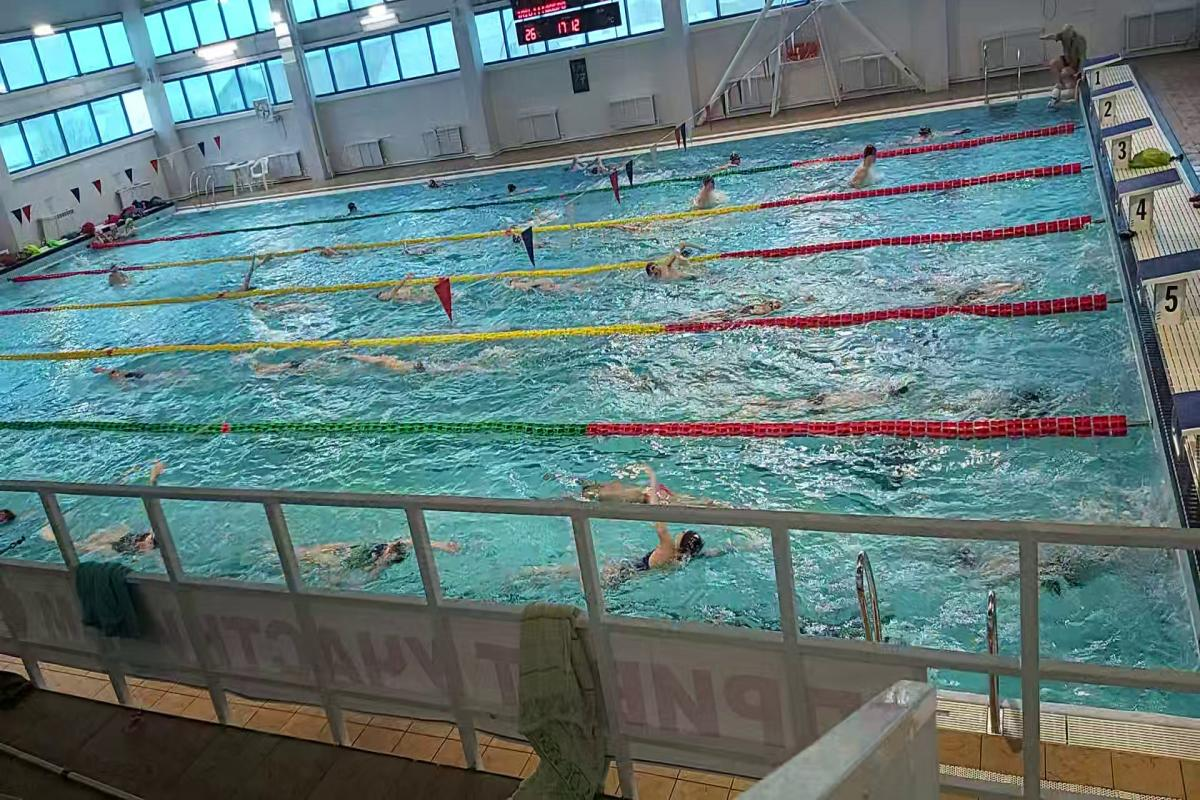swimmer: (518, 522, 739, 590), (962, 502, 1088, 608), (566, 456, 691, 506), (306, 533, 416, 586), (81, 518, 160, 563), (352, 344, 444, 382), (89, 362, 187, 396), (500, 270, 588, 303), (633, 252, 703, 288), (843, 140, 890, 193), (706, 288, 794, 316), (249, 353, 326, 384), (242, 297, 321, 326), (369, 277, 436, 310), (684, 173, 730, 213), (96, 259, 158, 285), (310, 246, 364, 262)
